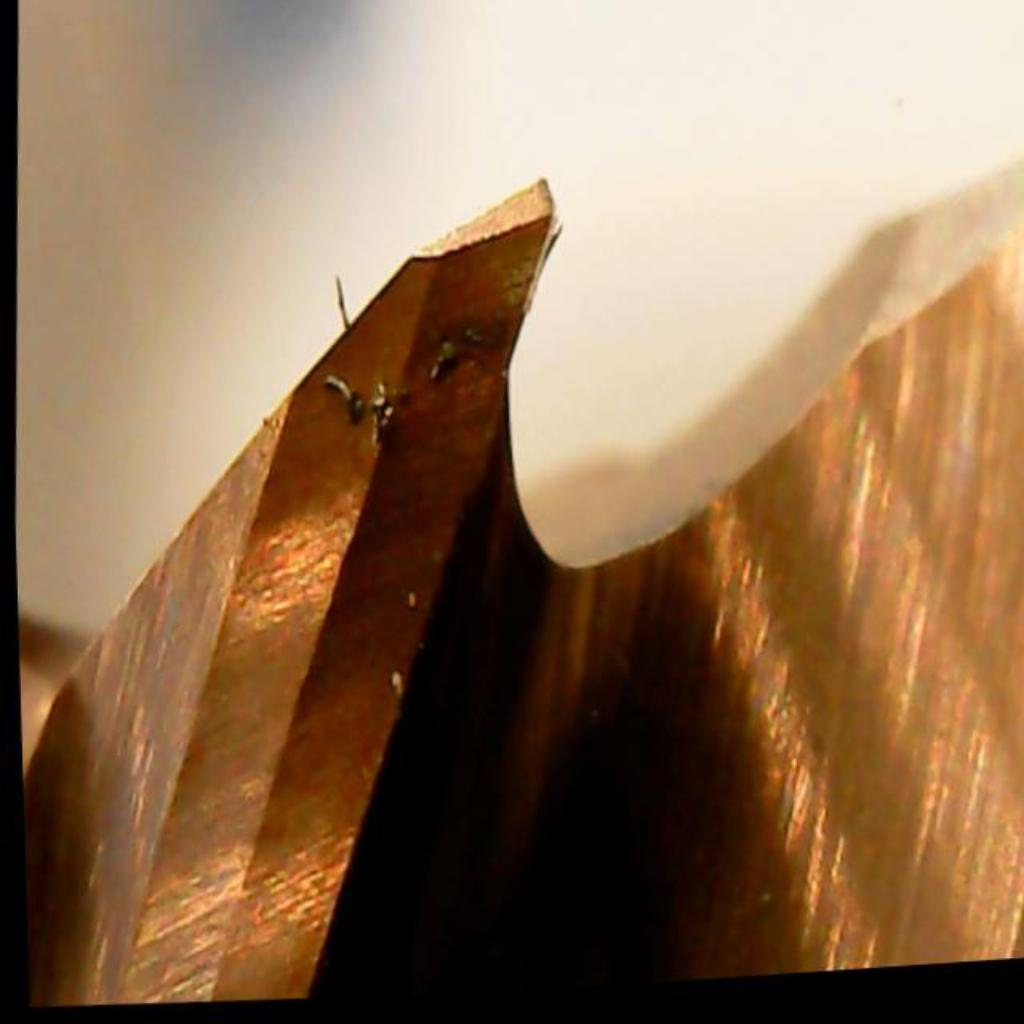Tool-wear-class-1: (247, 176, 603, 682)
